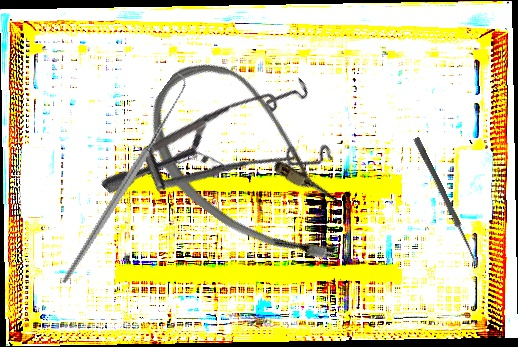Cannula: (119, 42, 387, 287)
Hook Surgical: (0, 71, 245, 286)
Speculum: (99, 30, 358, 289)
Surgical Spoon: (412, 136, 481, 267)
